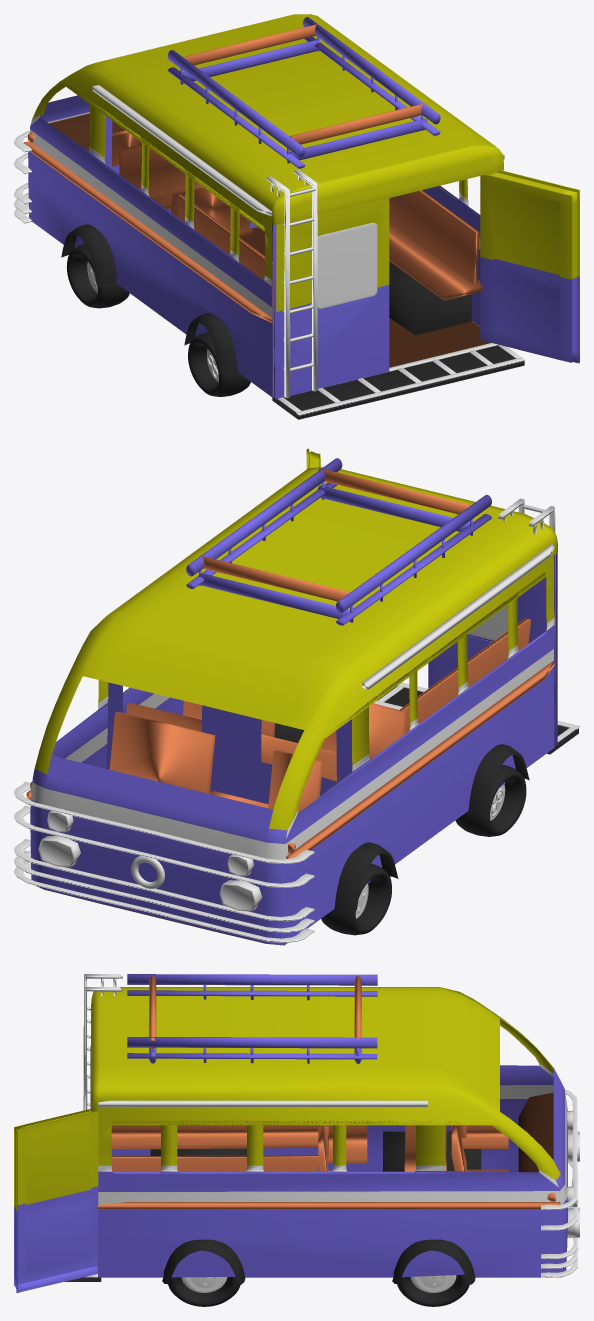
Rendered from CarRapide.fbx.
3 renders of one model, top to bottom at view 1: azimuth 30°, elevation 25°; view 2: azimuth 150°, elevation 25°; view 3: azimuth 270°, elevation 25°, orthographic. The views are drawn at different scales.
Visible parts, largest first — view 1: Carosse, porte 2, porte 1, ciége Gauche., espace Bagages, plancher carosse 2, Glass, echelle, fixe garde boue 3, plancher carosse, Metal lateral gch, carosse en bois (+7 smaller); view 2: Carosse, ciége Gauche., espace Bagages, Parchock, carosserie 2, porte 1, Metal lateral gch, Fares, pneux 3, support rideaux gauche, Pneux 2, garde boue (+5 smaller); view 3: Carosse, porte 2, ciége Gauche., espace Bagages, metal lateral droit, support rideau droit, Tableau de bord, Parchock, fixe gaarde boue 1, garde boue .002, garde boue .003, pneux 1 (+6 smaller).
Part boxes in pixels (bbox=[...]): Carosse: bbox=[28, 14, 503, 396]; porte 2: bbox=[480, 170, 579, 363]; porte 1: bbox=[272, 198, 389, 399]; ciége Gauche.: bbox=[112, 130, 482, 323]; espace Bagages: bbox=[167, 17, 440, 168]; plancher carosse 2: bbox=[272, 345, 524, 419]; Glass: bbox=[317, 222, 377, 308]; echelle: bbox=[266, 169, 317, 398]; fixe garde boue 3: bbox=[389, 261, 471, 335]; plancher carosse: bbox=[240, 227, 490, 396]; Metal lateral gch: bbox=[23, 141, 272, 322]; carosse en bois: bbox=[278, 343, 524, 415]; Carosse: bbox=[30, 467, 557, 945]; ciége Gauche.: bbox=[109, 618, 530, 812]; espace Bagages: bbox=[186, 458, 491, 625]; Parchock: bbox=[14, 781, 314, 942]; carosserie 2: bbox=[106, 682, 352, 804]; porte 1: bbox=[428, 552, 557, 746]; Metal lateral gch: bbox=[286, 660, 554, 863]; Fares: bbox=[38, 809, 261, 911]; pneux 3: bbox=[455, 765, 526, 836]; support rideaux gauche: bbox=[362, 542, 554, 689]; Pneux 2: bbox=[321, 863, 391, 935]; garde boue: bbox=[333, 842, 398, 911]; Carosse: bbox=[91, 987, 567, 1277]; porte 2: bbox=[14, 1109, 98, 1292]; ciége Gauche.: bbox=[111, 1125, 508, 1171]; espace Bagages: bbox=[127, 974, 377, 1064]; metal lateral droit: bbox=[98, 1202, 560, 1209]; support rideau droit: bbox=[98, 1100, 428, 1107]; Tableau de bord: bbox=[518, 1092, 553, 1172]; Parchock: bbox=[541, 1089, 578, 1277]; fixe gaarde boue 1: bbox=[383, 1131, 481, 1171]; garde boue .002: bbox=[162, 1239, 245, 1284]; garde boue .003: bbox=[392, 1239, 475, 1284]; pneux 1: bbox=[397, 1274, 469, 1306].
Size of the model in its own units: 2266 by 2024 by 4118.
